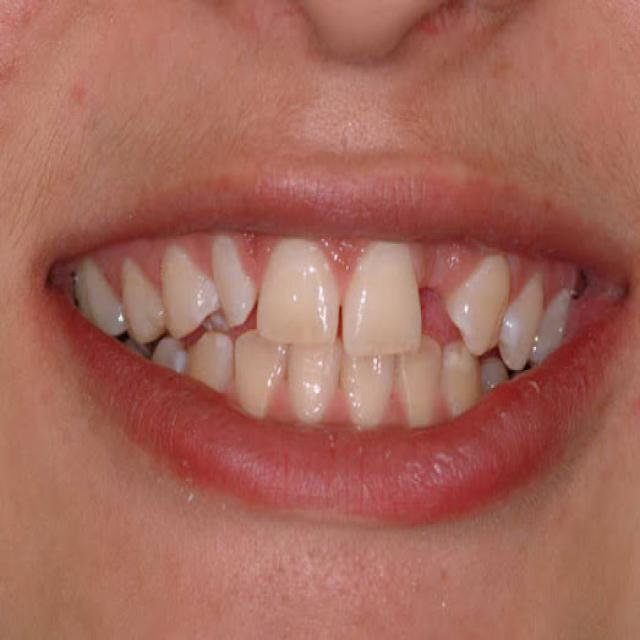tooth: (344, 257, 411, 347), (263, 252, 327, 329), (157, 252, 215, 334), (56, 268, 115, 329), (396, 344, 439, 422), (115, 267, 163, 329), (341, 352, 382, 424), (219, 235, 245, 322), (439, 344, 482, 386), (245, 332, 268, 408), (288, 364, 326, 409), (514, 276, 531, 358), (176, 342, 233, 363), (465, 280, 489, 322), (147, 328, 175, 363), (550, 301, 566, 347)
